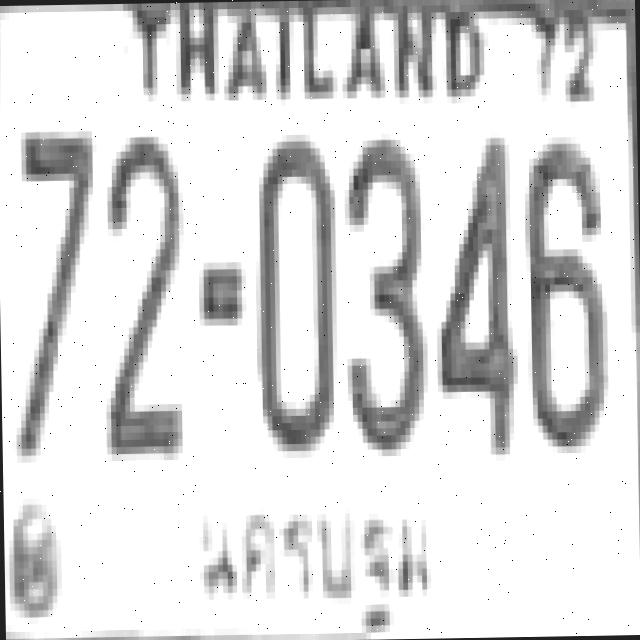0: (248, 133, 334, 444)
2: (98, 129, 184, 419), (98, 168, 182, 450), (98, 196, 182, 450)
3: (338, 132, 424, 450)
4: (428, 130, 514, 448)
6: (518, 136, 604, 447)
7: (4, 127, 95, 452), (13, 124, 95, 448)
NakhonPathom: (180, 478, 442, 640)
